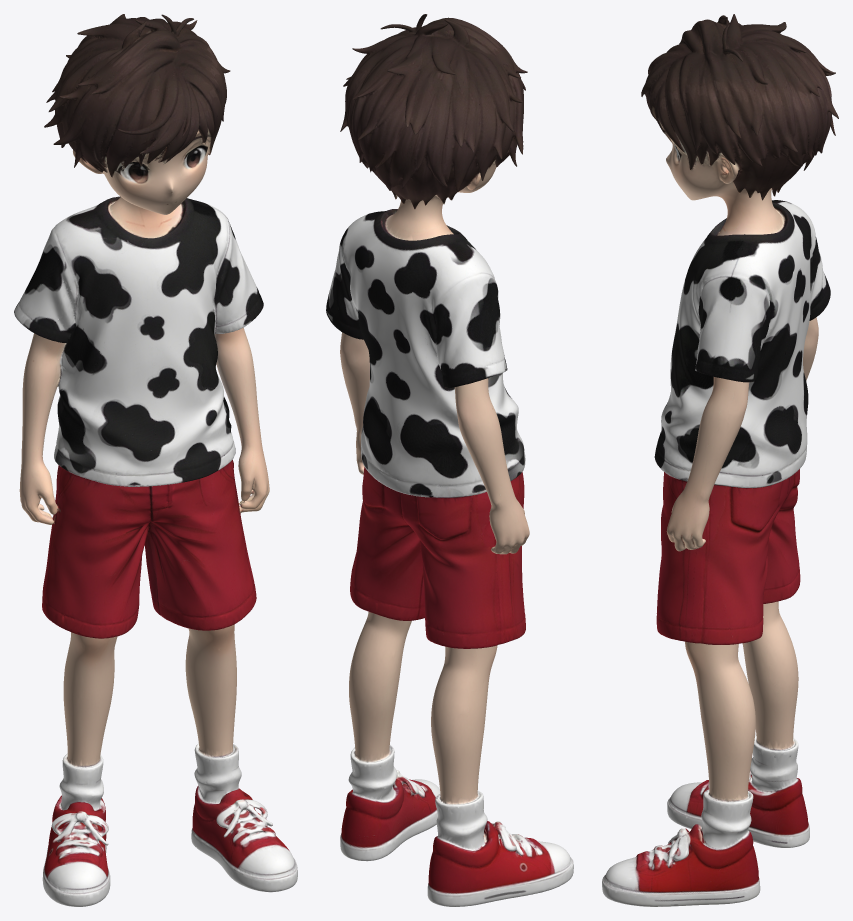
The model's file is young_tom_-_childhood_memory.glb.
3 renders of one model, left to right at view 1: azimuth 30°, elevation 25°; view 2: azimuth 150°, elevation 25°; view 3: azimuth 270°, elevation 25°, orthographic.
Visible parts, largest first — view 1: Object_4, Object_6, Object_5; view 2: Object_5, Object_4, Object_6; view 3: Object_4, Object_5, Object_6.
Part boxes in pixels (left/top/right/bottom): Object_4: left=14, top=14, right=297, bottom=892; Object_6: left=47, top=20, right=272, bottom=906; Object_5: left=17, top=14, right=263, bottom=906; Object_5: left=328, top=14, right=573, bottom=904; Object_4: left=326, top=14, right=549, bottom=906; Object_6: left=350, top=18, right=573, bottom=883; Object_4: left=602, top=15, right=835, bottom=906; Object_5: left=672, top=14, right=838, bottom=894; Object_6: left=654, top=16, right=727, bottom=906.
Bounding box in the file's own units: 0.5236 × 1.9 × 0.4843.
Materials: 1 (1 with a texture image).
